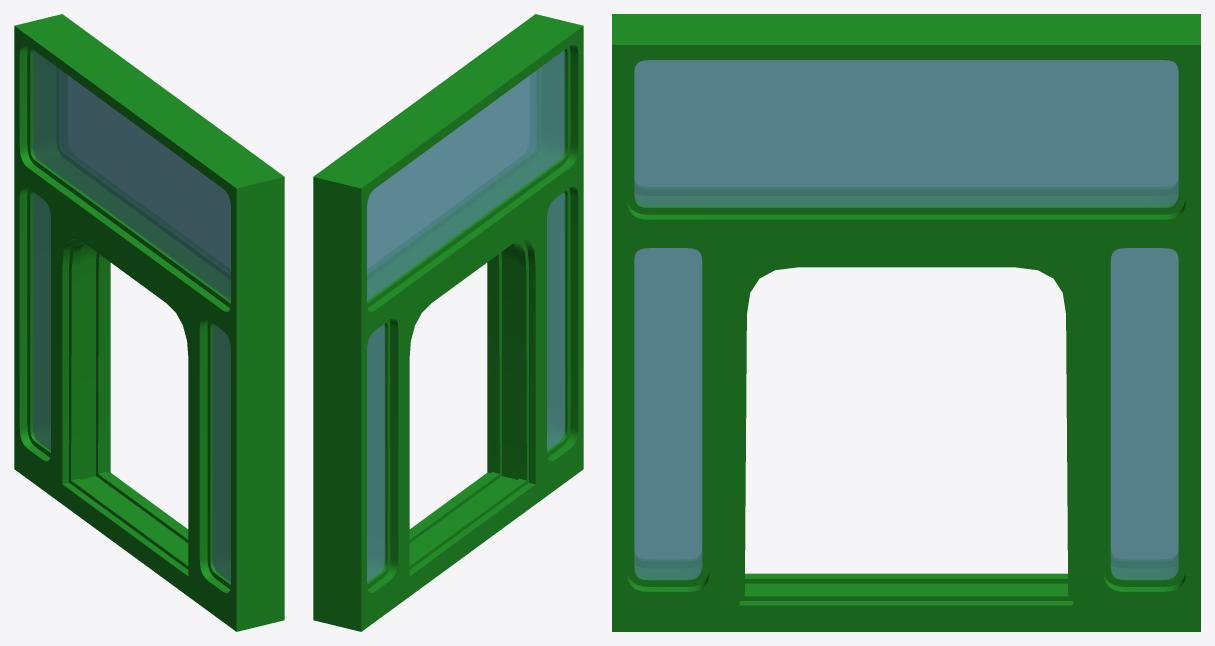
File: Rooms_Wall_Separator_A_Door.FBX
3 views of the same model, side by side, from view 1: azimuth 30°, elevation 25°; view 2: azimuth 150°, elevation 25°; view 3: azimuth 270°, elevation 25° (orthographic). The views are drawn at different scales.
Visible parts, largest first — view 1: Rooms_Wall_Separator_A_Door; view 2: Rooms_Wall_Separator_A_Door; view 3: Rooms_Wall_Separator_A_Door.
Boxes of the visible parts, bbox=[...] form: Rooms_Wall_Separator_A_Door: bbox=[14, 14, 284, 631]; Rooms_Wall_Separator_A_Door: bbox=[313, 14, 583, 631]; Rooms_Wall_Separator_A_Door: bbox=[612, 14, 1200, 631].
Size of the model in its own units: 50 by 440 by 400.
